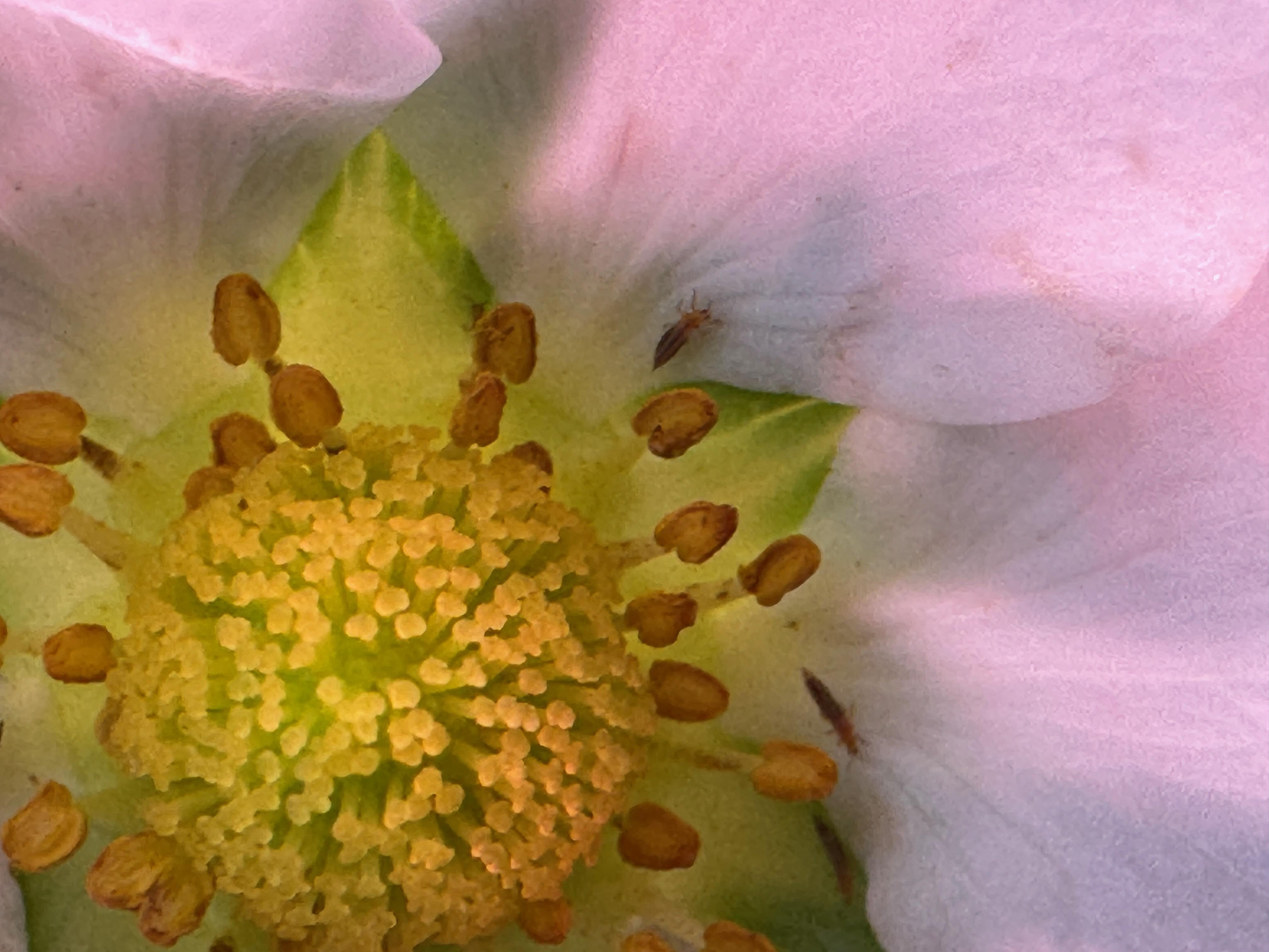tiny_pests: (773, 620, 892, 795), (623, 258, 743, 389)
